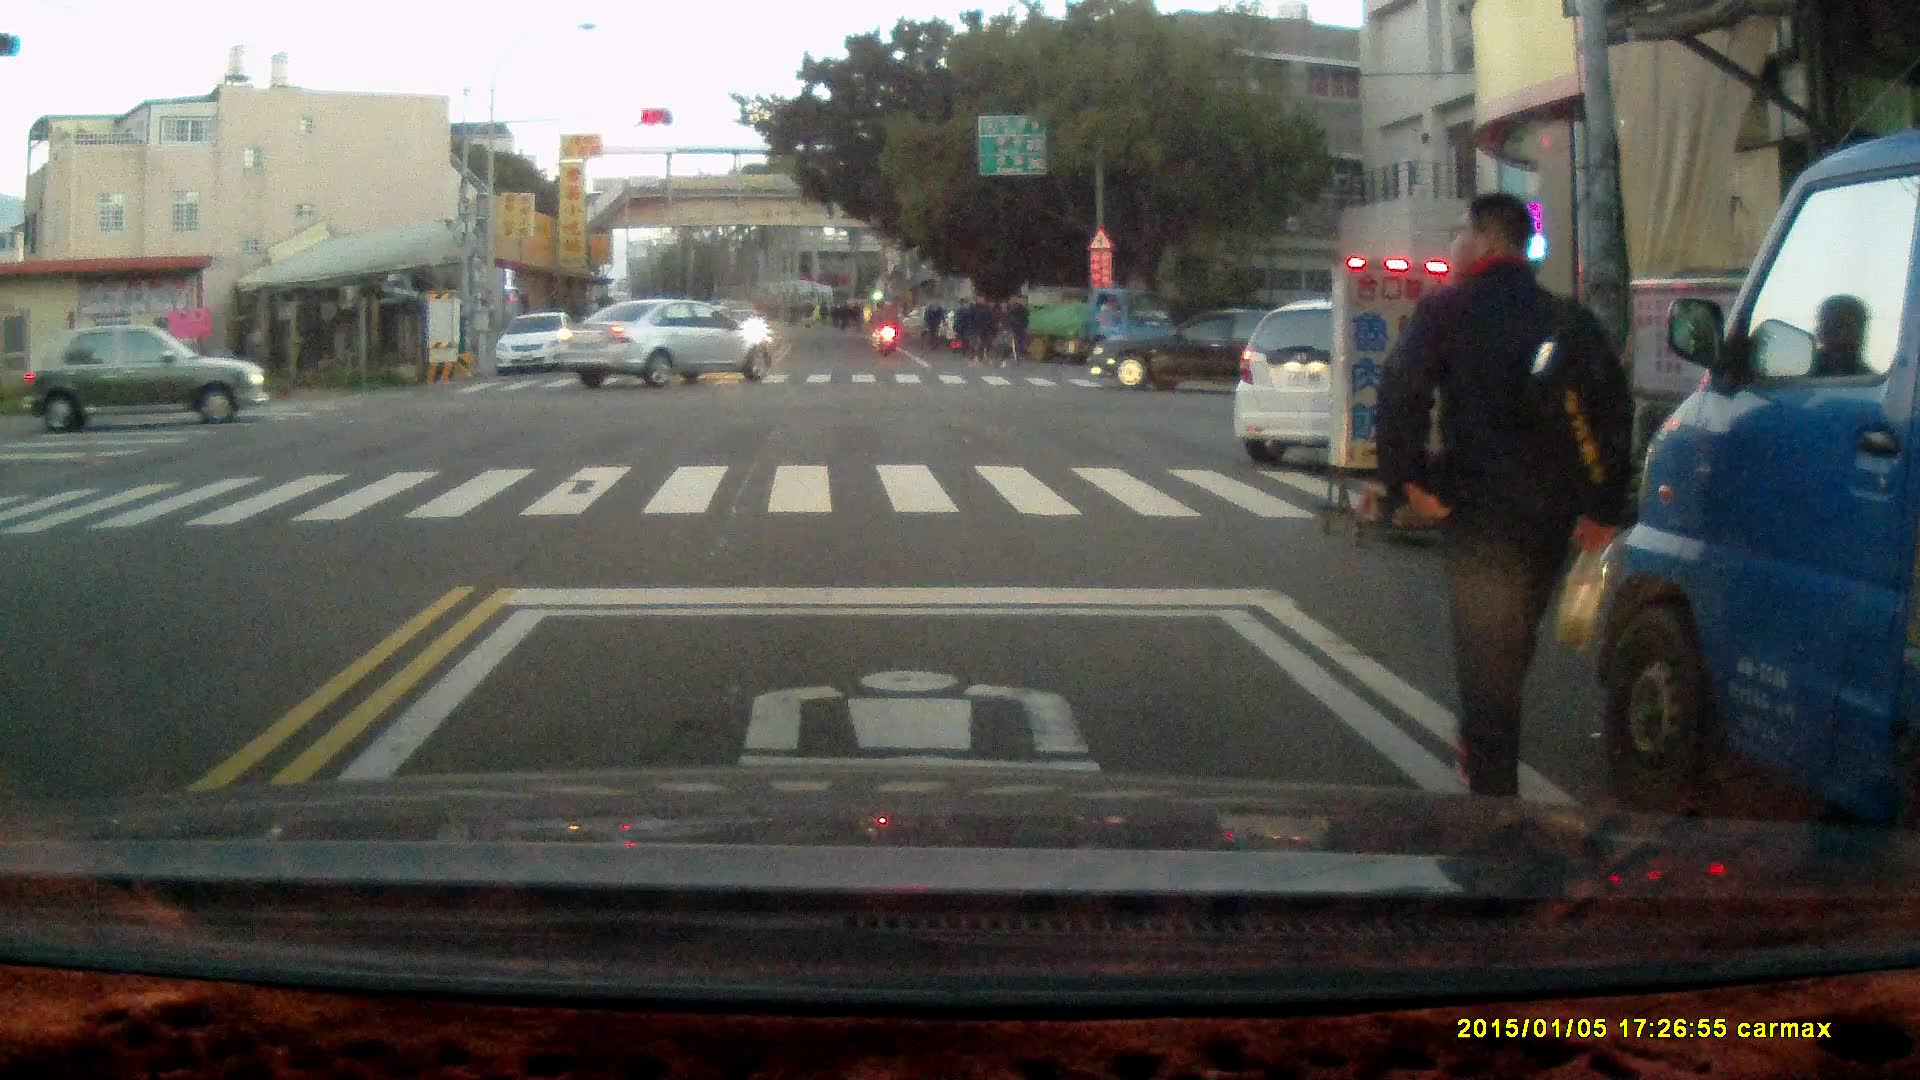pedestrian: (1374, 187, 1636, 825), (964, 290, 994, 368), (1002, 292, 1031, 370)
vehicle: (1598, 132, 1920, 846), (1233, 296, 1533, 459), (17, 324, 273, 434), (559, 298, 786, 391), (1102, 304, 1326, 393), (1002, 284, 1179, 367), (498, 313, 586, 377)
